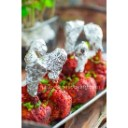chicken_lollipop: (62, 22, 106, 98), (23, 52, 53, 127), (51, 47, 75, 117)
